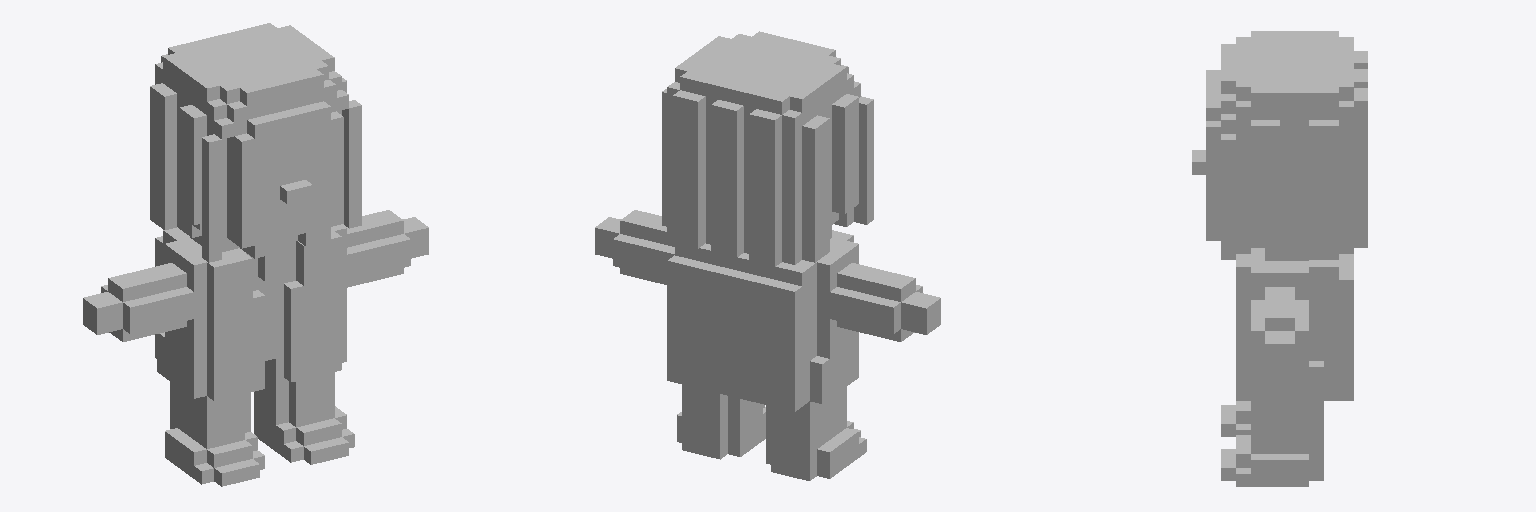
File: nyu-ton.obj
3 views of the same model, side by side, from view 1: azimuth 30°, elevation 25°; view 2: azimuth 150°, elevation 25°; view 3: azimuth 270°, elevation 25° (orthographic).
Size of the model in its own units: 26 by 29 by 12.